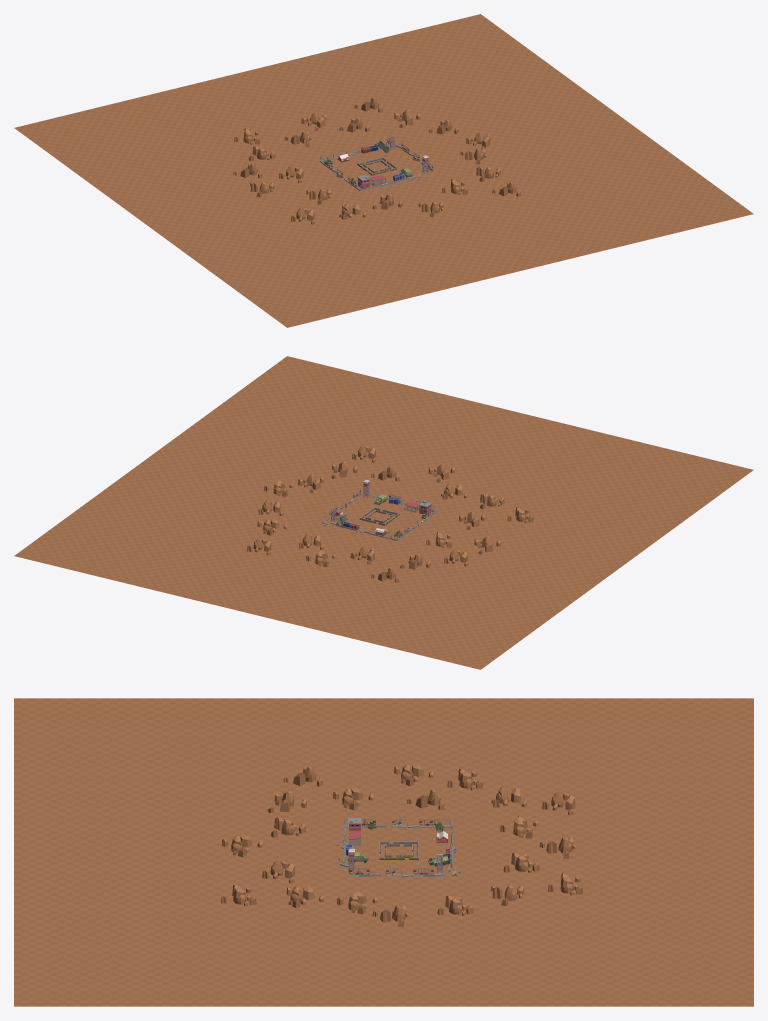
The model's file is MilitaryBaseScene.fbx.
3 renders of one model, top to bottom at view 1: azimuth 30°, elevation 25°; view 2: azimuth 150°, elevation 25°; view 3: azimuth 270°, elevation 25°, orthographic. The views are drawn at different scales.
Parts seen in each view (by area): view 1: Plane; view 2: Plane; view 3: Plane.
Part boxes in pixels (x1,y1,x2,y2): Plane: (14, 14, 753, 327); Plane: (14, 356, 753, 669); Plane: (14, 698, 753, 1006).
Bounding box in the file's own units: 364 × 12.93 × 369.
47 materials, 3 textured.
